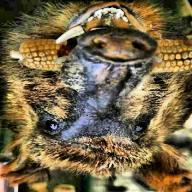boar: (7, 1, 192, 190)
